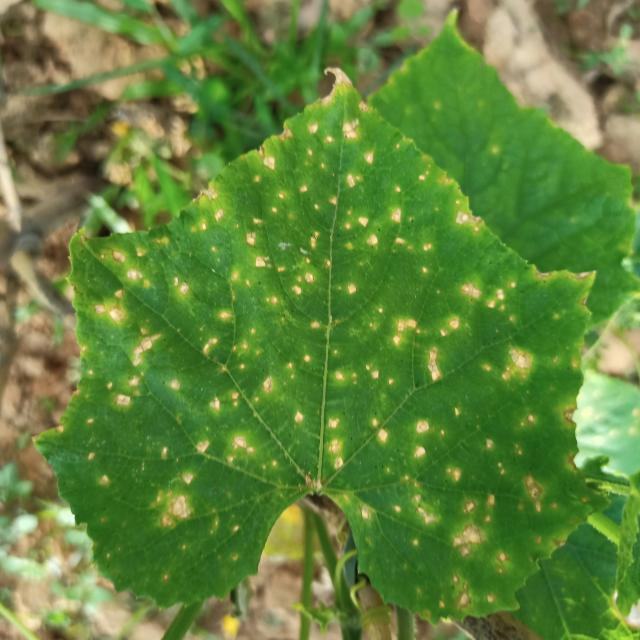disease_cucumber: (158, 115, 537, 391), (79, 267, 400, 539), (327, 309, 586, 615)
